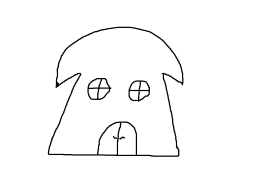closed_window: (122, 76, 158, 104), (85, 75, 116, 103)
door: (94, 117, 142, 161)
single_line_roof: (46, 20, 192, 90)
wall: (44, 71, 184, 163)
